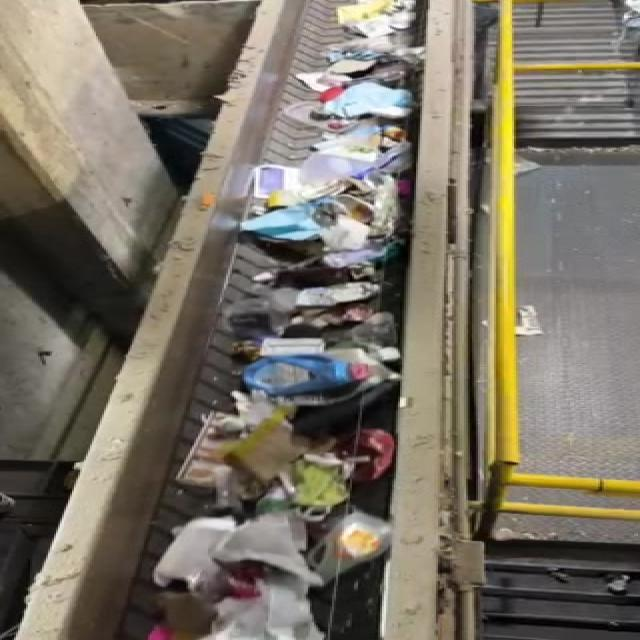hdpe: (222, 348, 380, 401), (308, 514, 396, 603)
paper: (183, 405, 294, 493)
pp: (330, 425, 405, 489)
ps: (130, 496, 234, 594)
